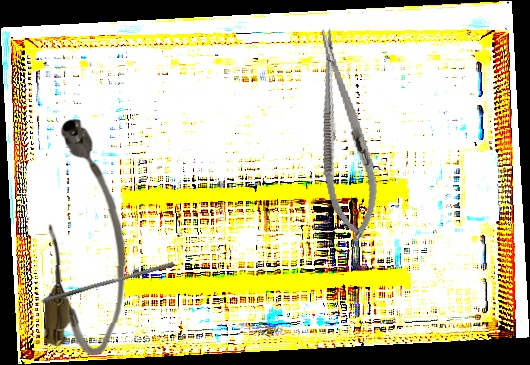Cannula: (43, 118, 129, 356)
Needle Holder: (300, 24, 388, 247)
Pusher: (40, 256, 176, 310)
